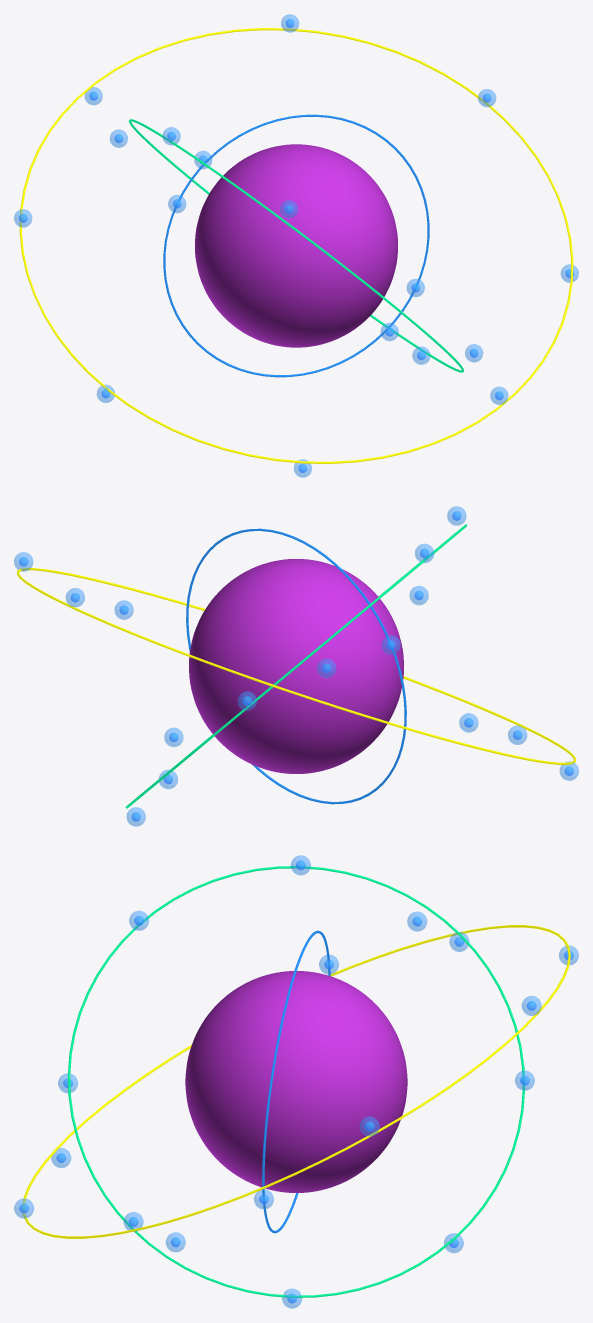
The picture shows the model from 3 angles, top to bottom: view 1: azimuth 30°, elevation 25°; view 2: azimuth 150°, elevation 25°; view 3: azimuth 270°, elevation 25°; orthographic projection. The views are drawn at different scales.
Parts seen in each view (by area): view 1: Ar, object 24, object 2, object 7; view 2: Ar, object 24, object 2, object 7; view 3: Ar, object 7, object 24, object 2.
Part boxes in pixels (x1=…): Ar: x1=195, y1=144, x2=397, y2=347; object 24: x1=19, y1=28, x2=573, y2=463; object 2: x1=163, y1=114, x2=429, y2=377; object 7: x1=128, y1=119, x2=464, y2=372; Ar: x1=189, y1=559, x2=403, y2=773; object 24: x1=17, y1=568, x2=575, y2=764; object 2: x1=186, y1=528, x2=406, y2=804; object 7: x1=125, y1=524, x2=467, y2=808; Ar: x1=185, y1=971, x2=407, y2=1192; object 7: x1=67, y1=866, x2=525, y2=1297; object 24: x1=23, y1=925, x2=570, y2=1238; object 2: x1=262, y1=930, x2=330, y2=1233.
Size of the model in its own units: 4.78 by 2.8 by 4.47.
